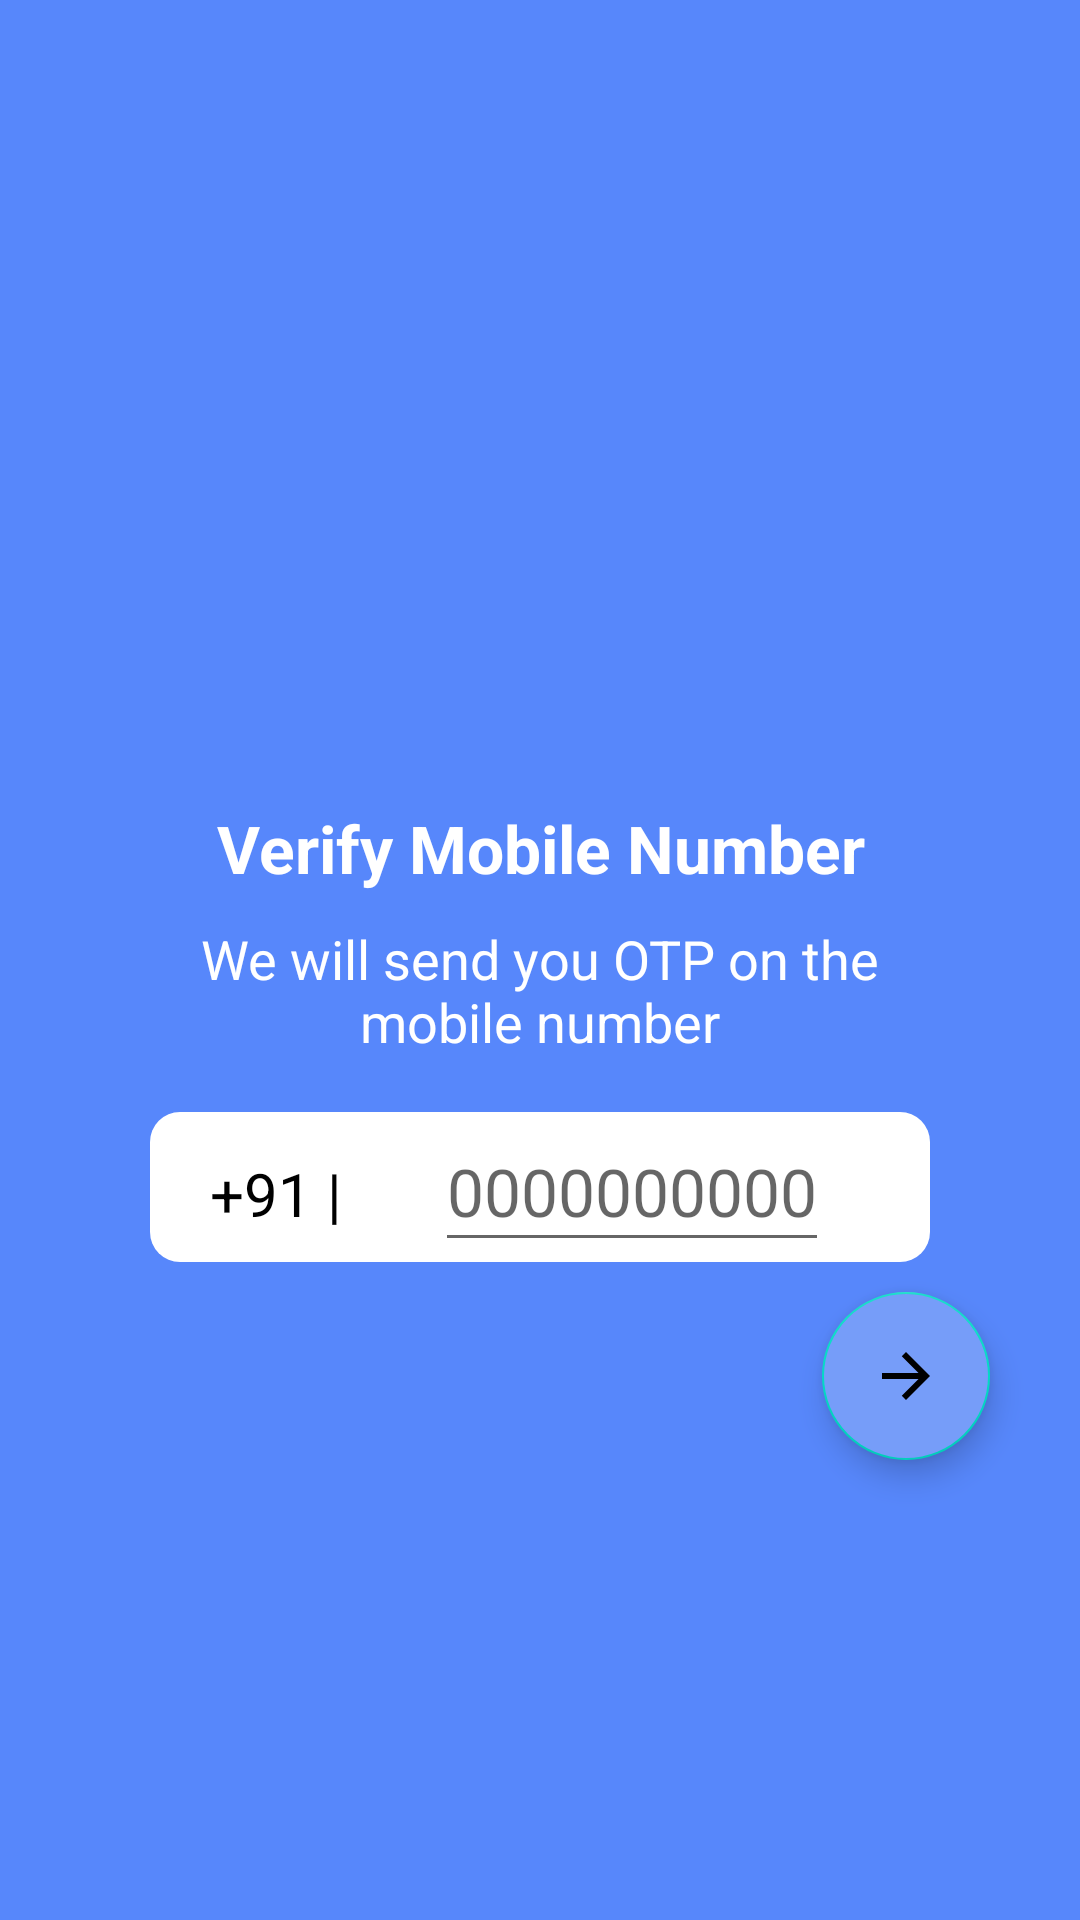

Point at icon controls on the screen. Image size 1080px×1920px, points as point (x, y).
forward arrow: point (906, 1376)
